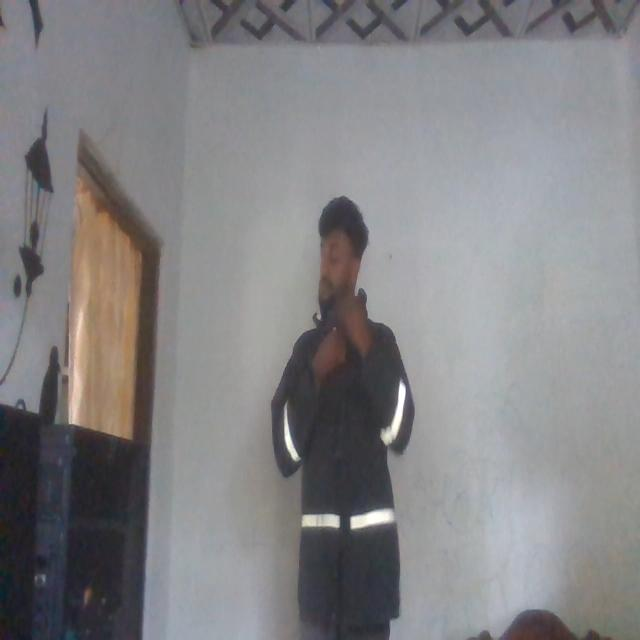Jacket_Wearer: (272, 282, 414, 640)
Person: (266, 194, 417, 640)
